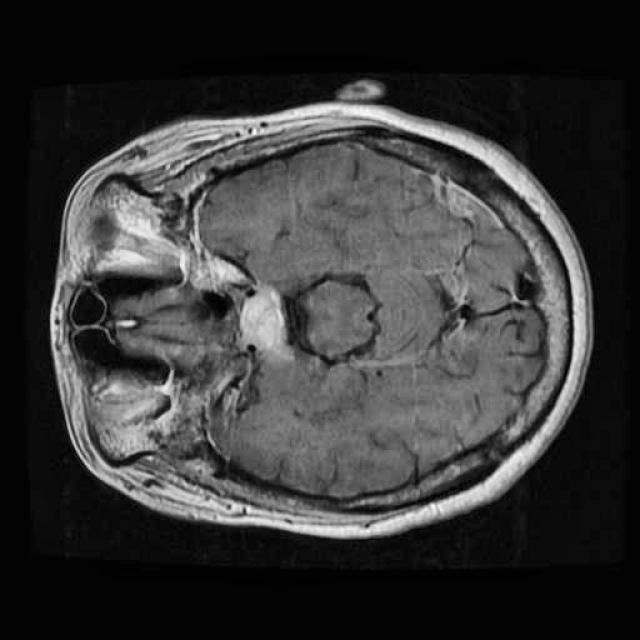Tumor: (221, 274, 310, 381)
